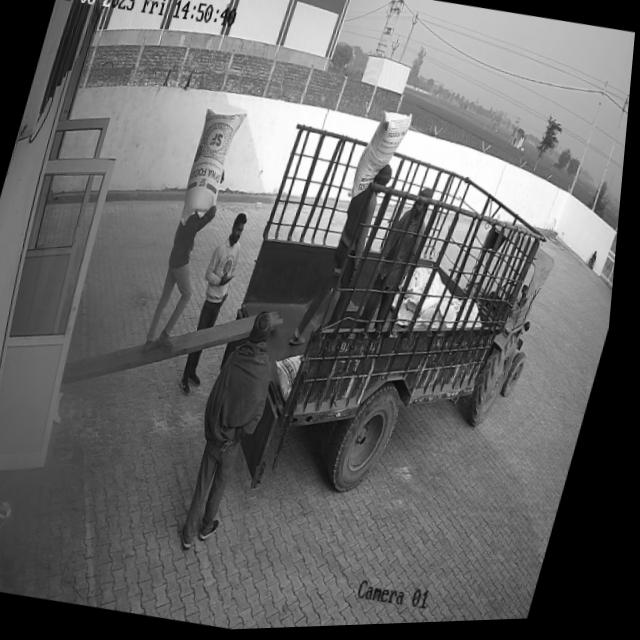sack: (179, 107, 249, 227), (351, 108, 416, 209)
